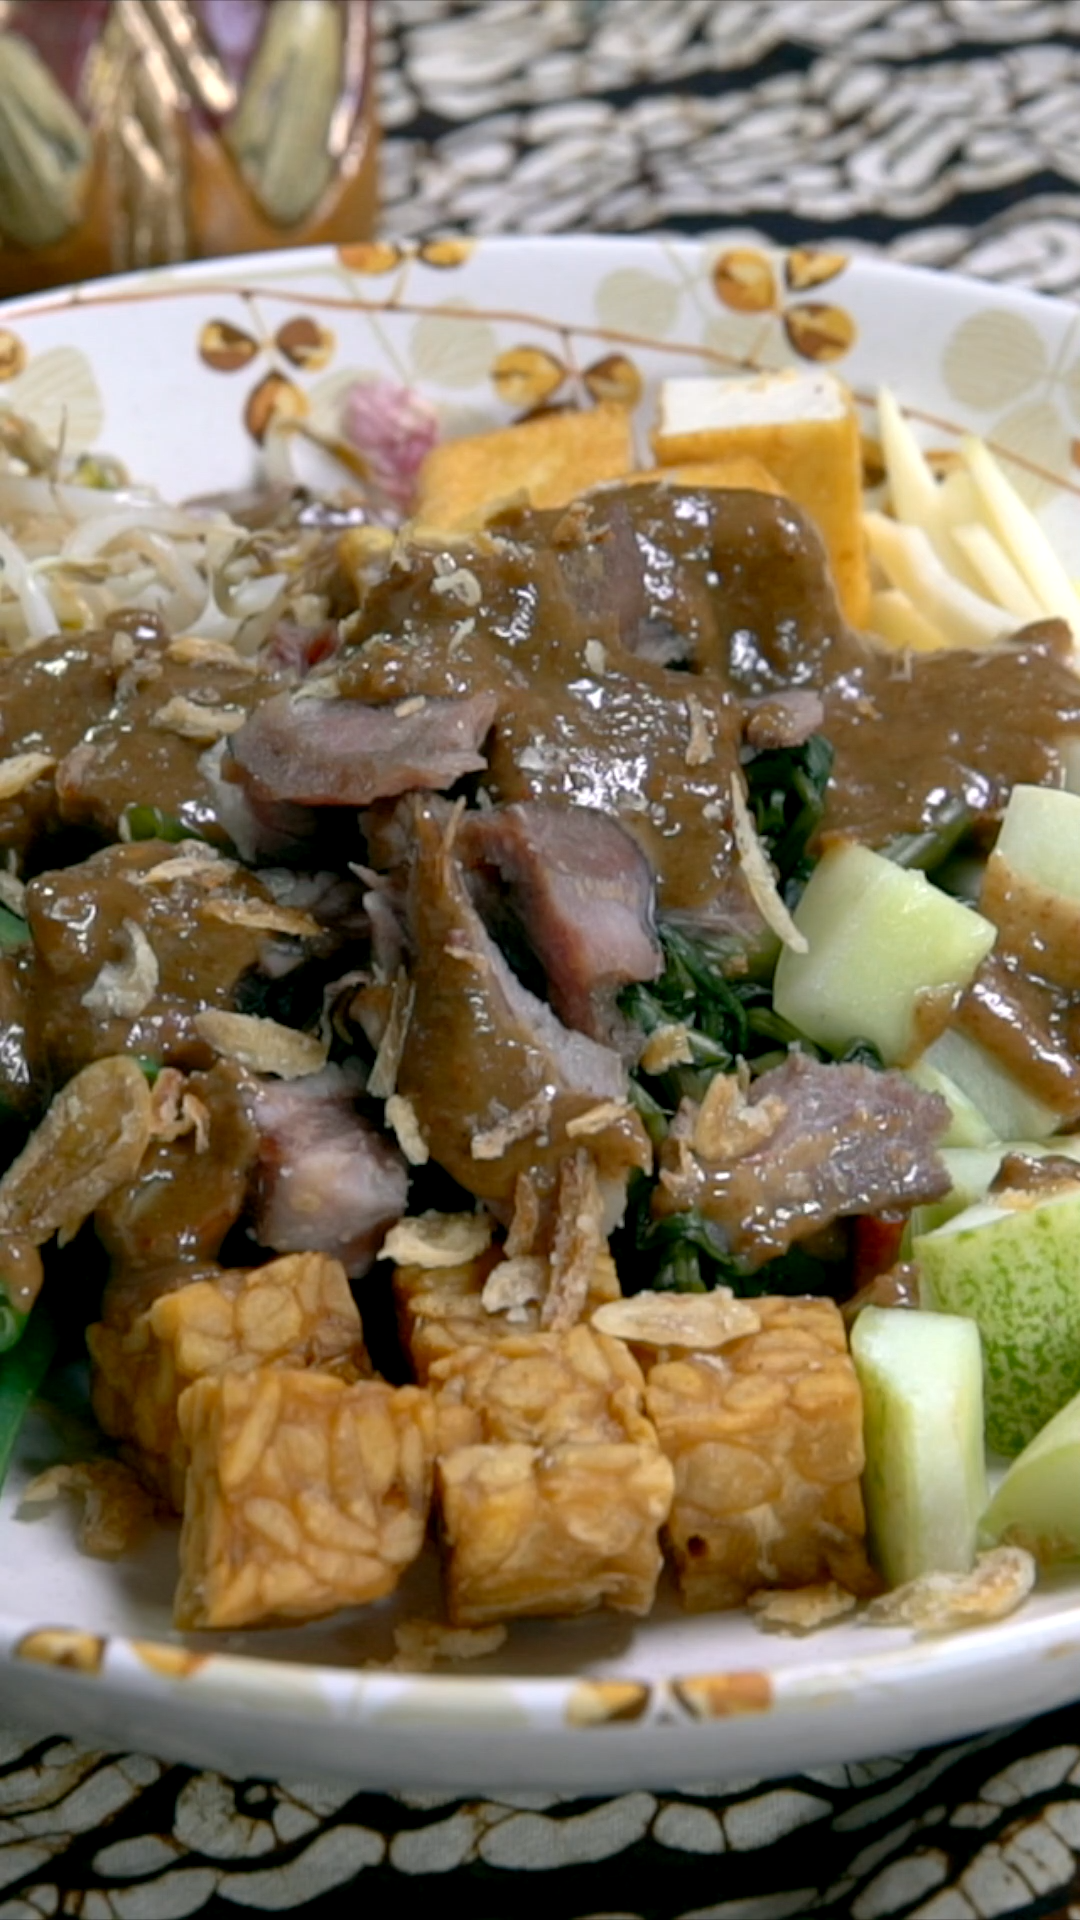rujak_cingur: (7, 369, 1080, 1650)
